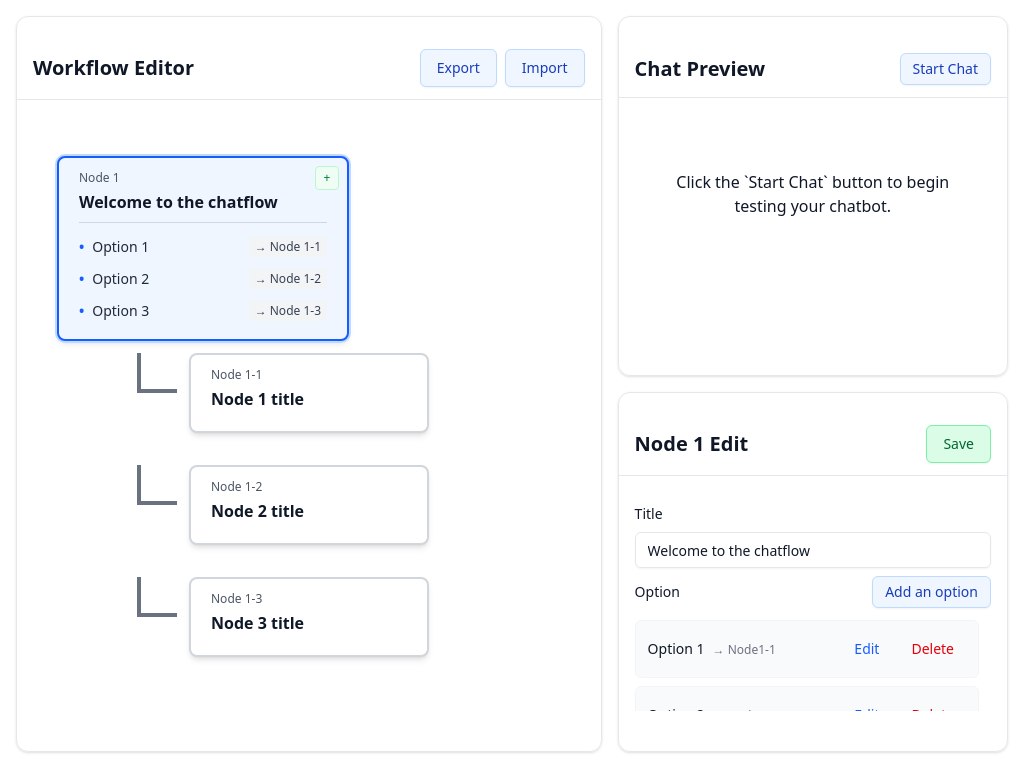
Test: ChatbotEditor - Dialog Operations › can add a new node through dialog
Note: Click the + button on the root node (should be visible by default)
Click the button titled "Add child node": (327, 178) [315,166,339,190]
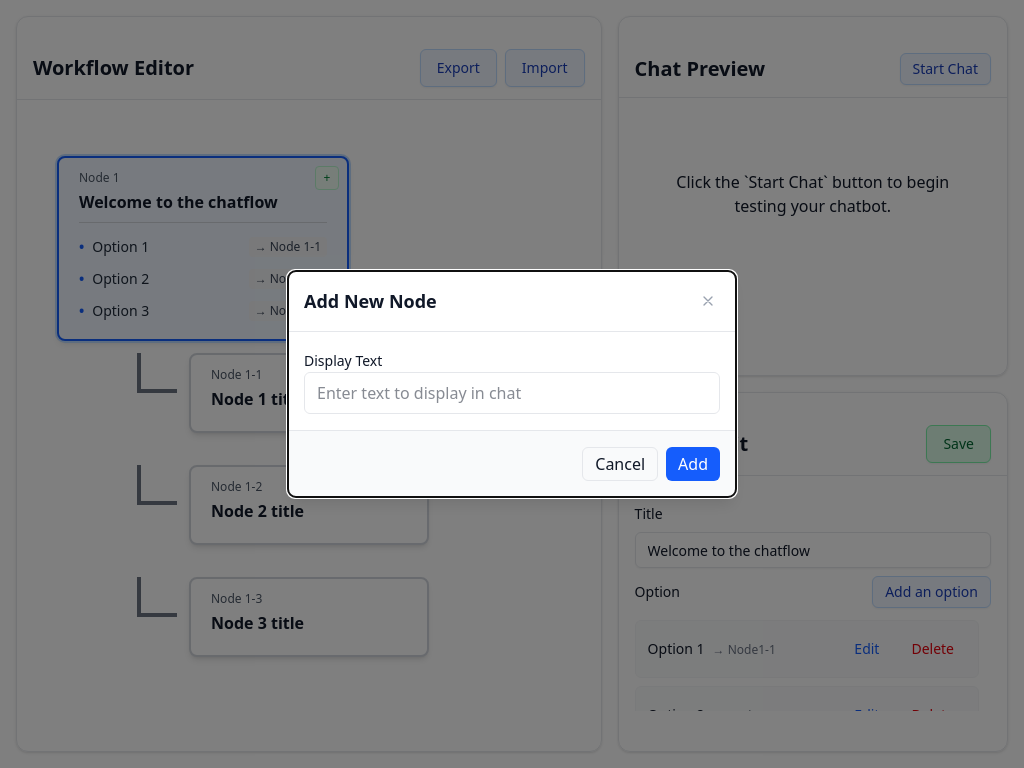
Now the heading "Add New Node" is shown, box [304,287,437,315]
Note: Use the exact placeholder text from the dialog
In the field with placeholder "Enter text to display in chat": (512, 393) [304,372,720,414], type "New Test Node"
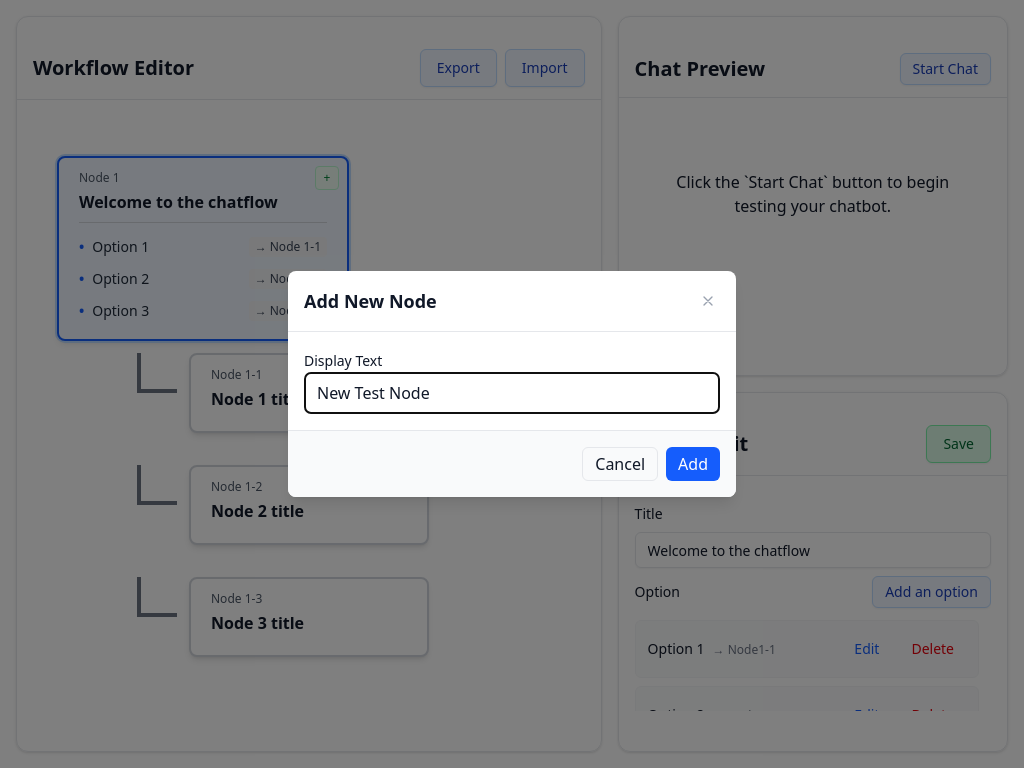
Note: Click Add button
Click the button "Add": (693, 464) [666,447,720,481]
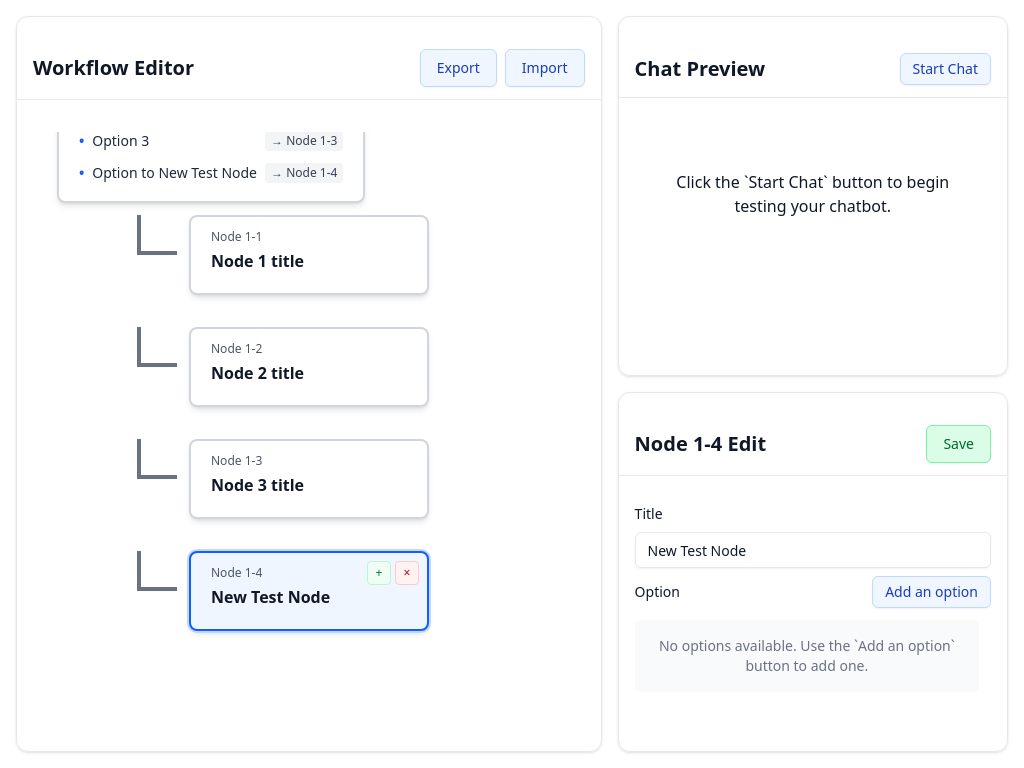
Now the text "New Test Node" is shown, box [211,586,330,608]
